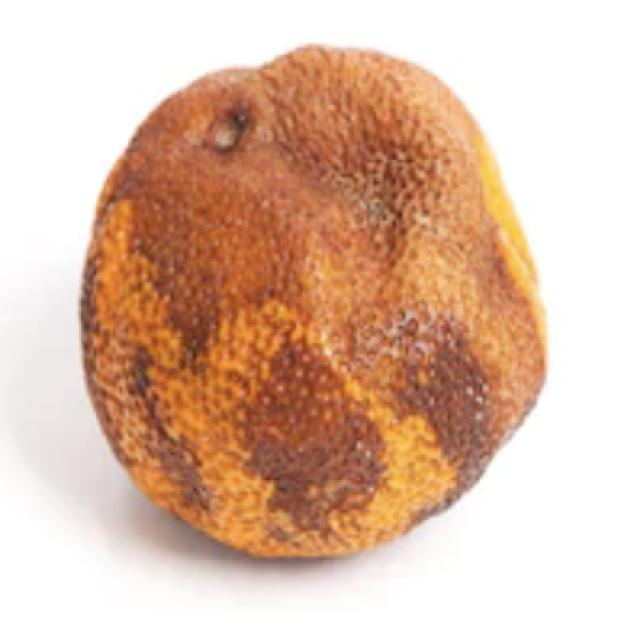sangat_busuk: (92, 54, 544, 562)
